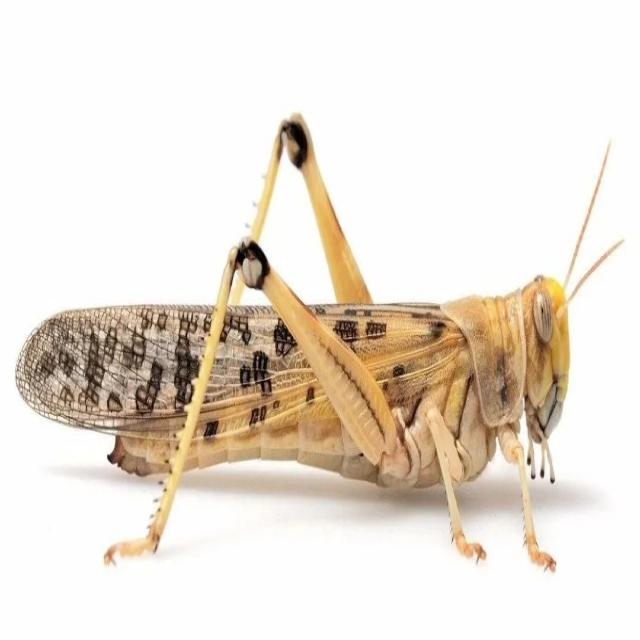ZhaMeng: (16, 115, 616, 585)
